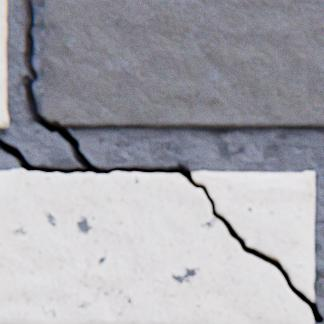brick: (42, 0, 323, 129), (0, 0, 9, 128)
broken_brick: (0, 170, 313, 323), (192, 172, 315, 301), (120, 128, 148, 129), (7, 58, 8, 83)
crack: (0, 0, 323, 323)
